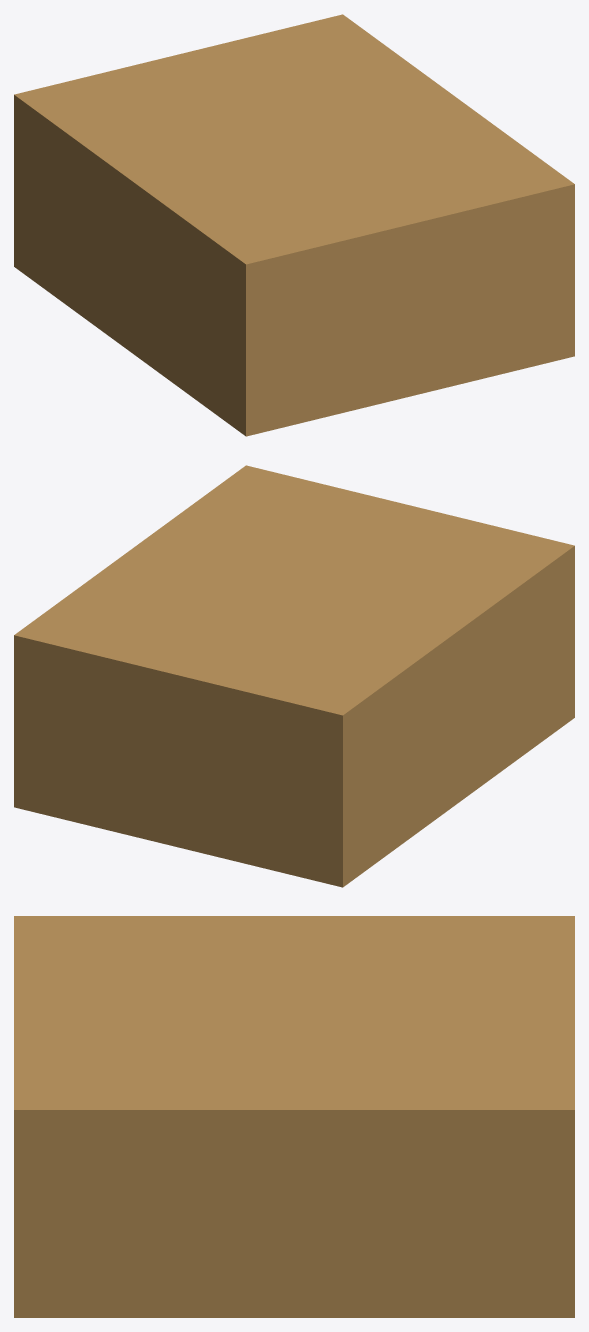
3 views of the same model, one above another, from view 1: azimuth 30°, elevation 25°; view 2: azimuth 150°, elevation 25°; view 3: azimuth 270°, elevation 25° (orthographic). The views are drawn at different scales.
Visible parts, largest first — view 1: RUN-082-S02-bottom_plate; view 2: RUN-082-S02-bottom_plate; view 3: RUN-082-S02-bottom_plate.
Part boxes in pixels (left/top/right/bottom): RUN-082-S02-bottom_plate: left=14, top=14, right=574, bottom=436; RUN-082-S02-bottom_plate: left=14, top=465, right=574, bottom=887; RUN-082-S02-bottom_plate: left=14, top=916, right=574, bottom=1317.
Bounding box in the file's own units: 0.09 × 0.045 × 0.11.
